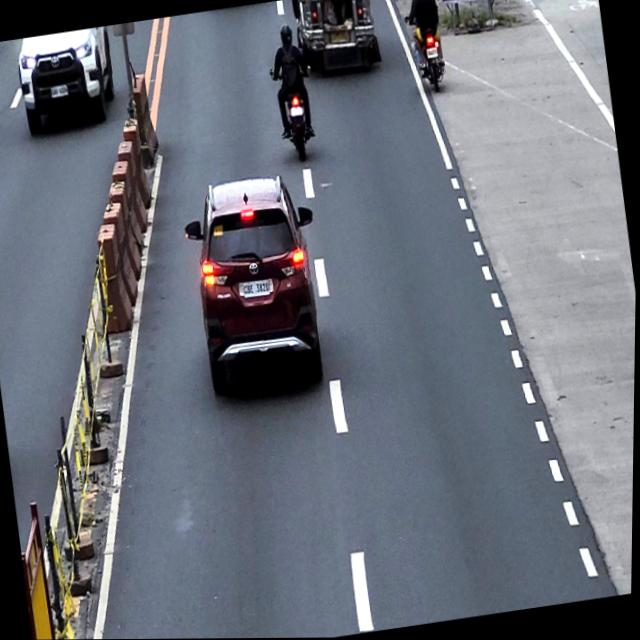Car: (177, 169, 337, 399), (14, 26, 121, 136)
Jeep: (290, 0, 383, 80)
License-Plate: (237, 276, 276, 301), (50, 84, 70, 99), (425, 45, 439, 60), (289, 105, 304, 118)
Motorcycle: (268, 63, 321, 165), (403, 11, 450, 97)
